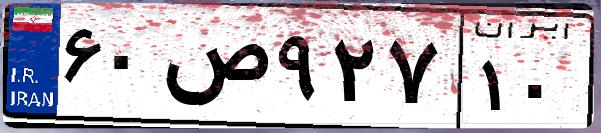0: (525, 38, 570, 115), (110, 28, 158, 98)
1: (475, 38, 525, 113)
2: (330, 28, 385, 110)
6: (57, 26, 110, 100)
7: (385, 28, 445, 110)
9: (270, 28, 330, 110)
ص: (158, 20, 270, 120)
